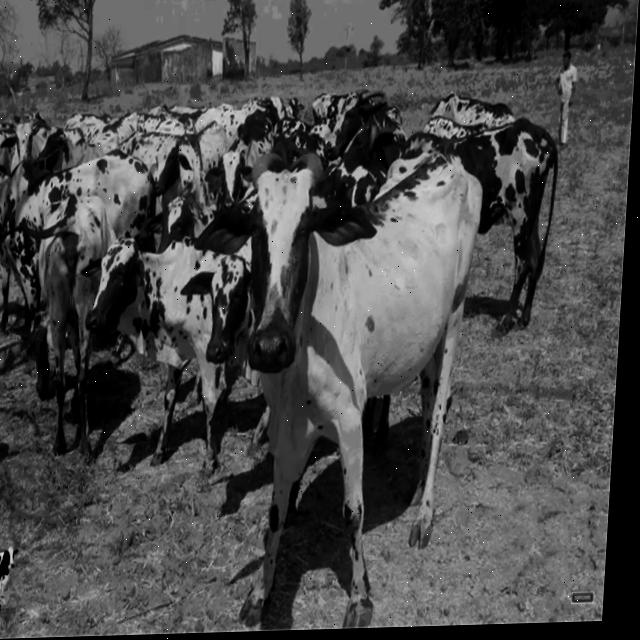Cow: (214, 126, 437, 515)
